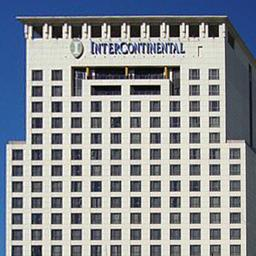building: (0, 8, 256, 254)
